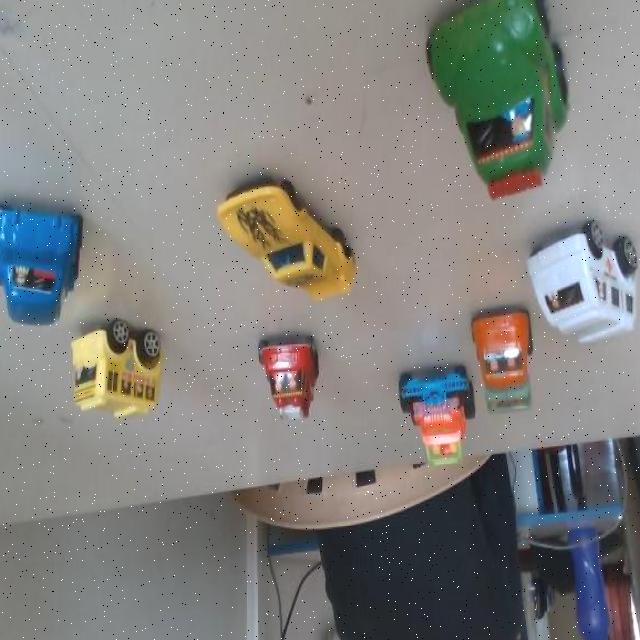car: (430, 3, 588, 193), (216, 173, 366, 311), (520, 205, 640, 364), (384, 361, 476, 479), (0, 198, 83, 327), (77, 310, 174, 420), (254, 317, 336, 433), (470, 303, 540, 427)
